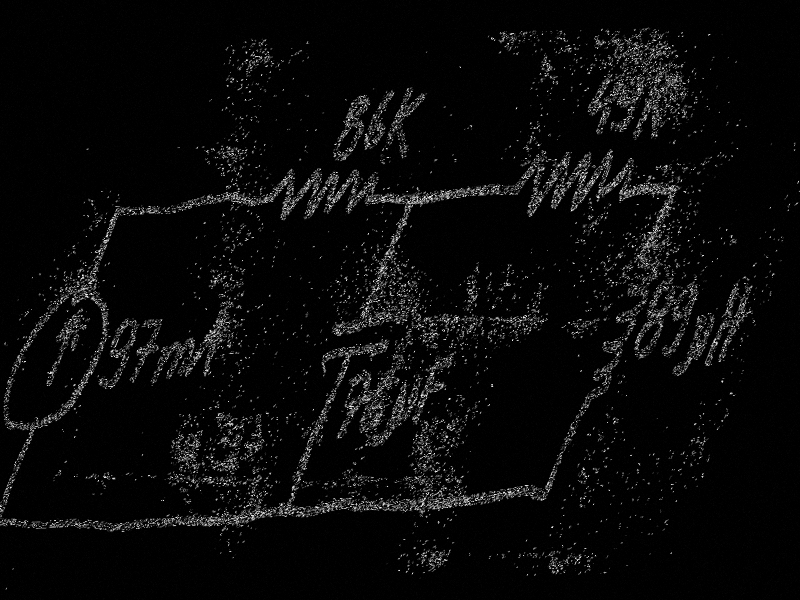4: (576, 72, 628, 137)
6: (353, 361, 405, 436), (357, 88, 403, 151)
7: (323, 366, 381, 442), (116, 313, 173, 387)
8: (624, 278, 684, 364), (324, 94, 379, 165)
9: (88, 313, 148, 393), (650, 282, 706, 361), (602, 70, 652, 140)
A: (181, 302, 238, 380)
F: (407, 350, 458, 423)
H: (698, 281, 757, 369)
k: (373, 85, 435, 168), (627, 73, 683, 143)
m: (146, 337, 199, 384)
u: (371, 375, 426, 449), (668, 311, 720, 378)
